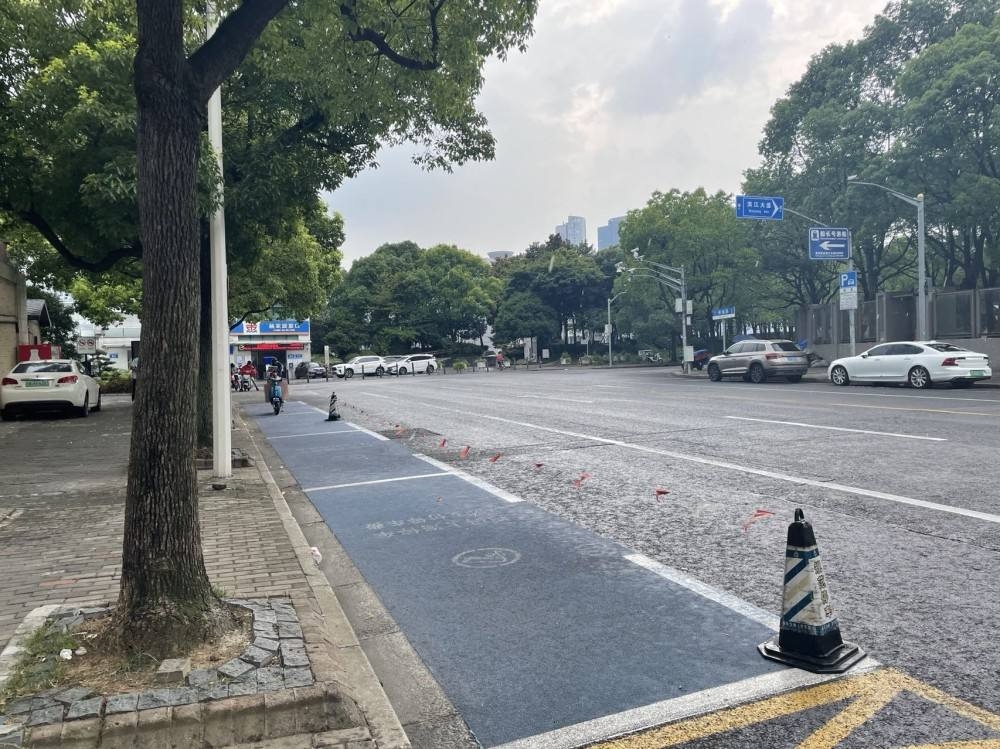slot_nocar: (278, 464, 904, 749), (263, 422, 462, 494), (253, 402, 374, 448)
